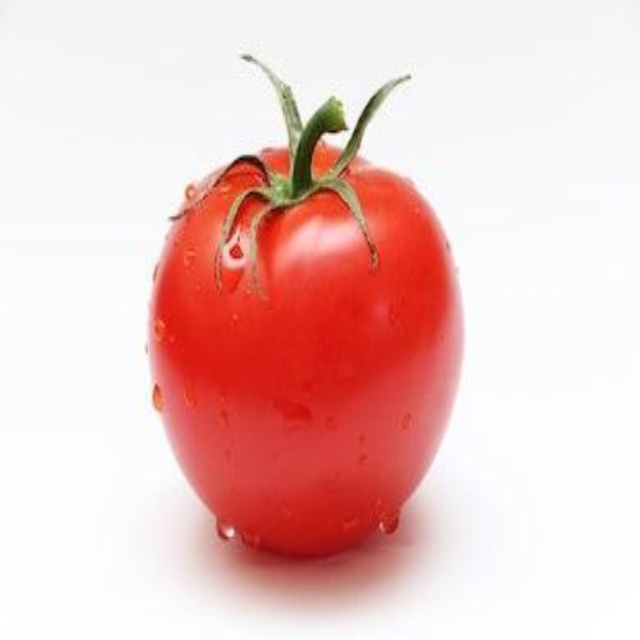tomato: (143, 63, 465, 560)
